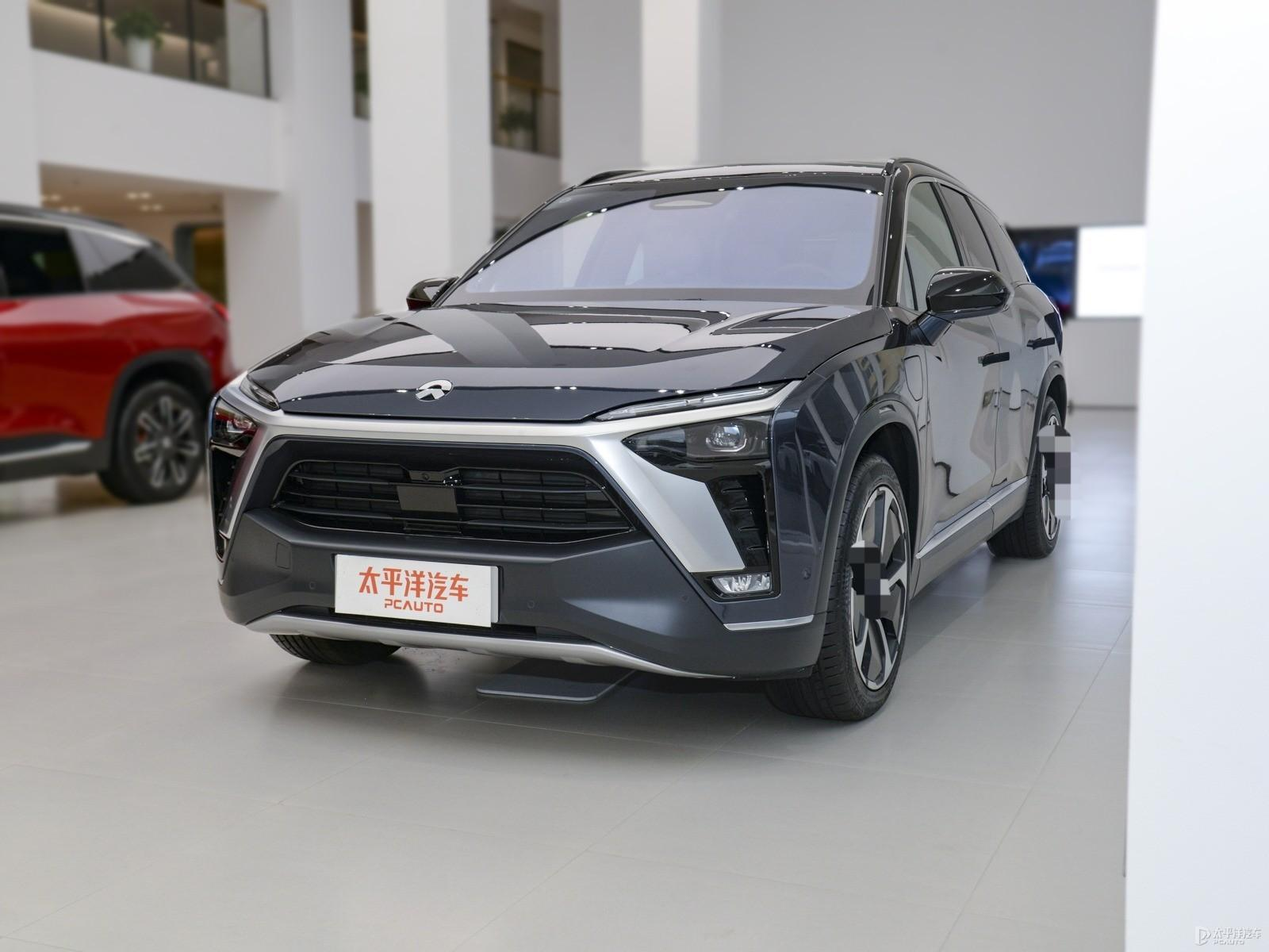NIO: (416, 379, 452, 400)
